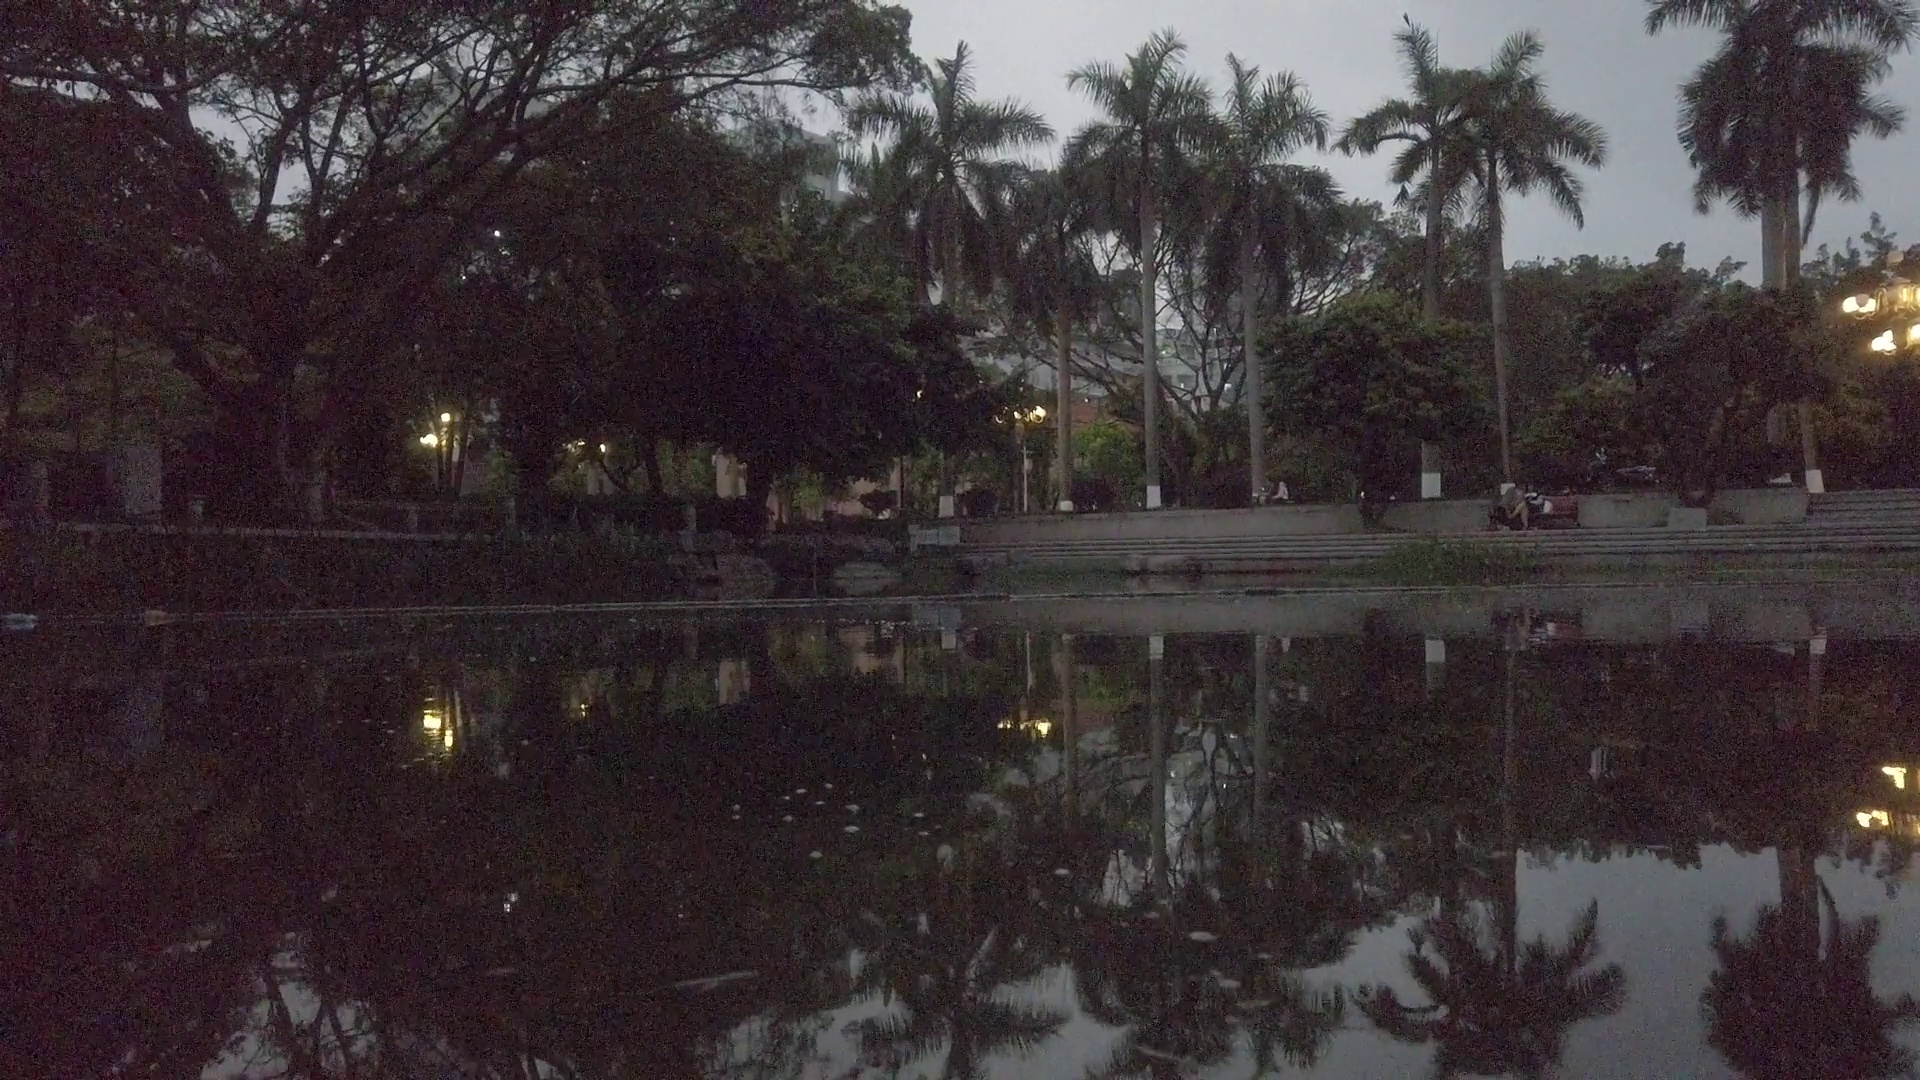bottle: (3, 611, 36, 625), (141, 611, 169, 620)
